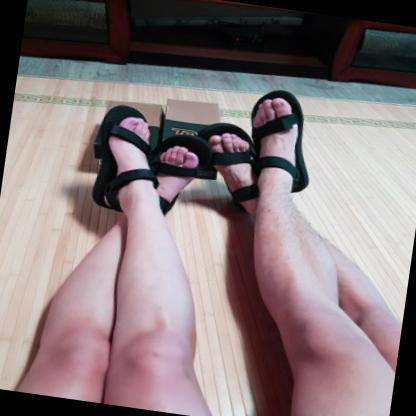no_safety-shoe: (227, 86, 319, 197), (76, 99, 159, 208)
